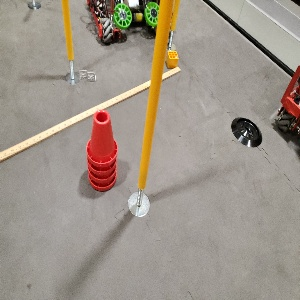Red_4: (82, 110, 118, 191)
